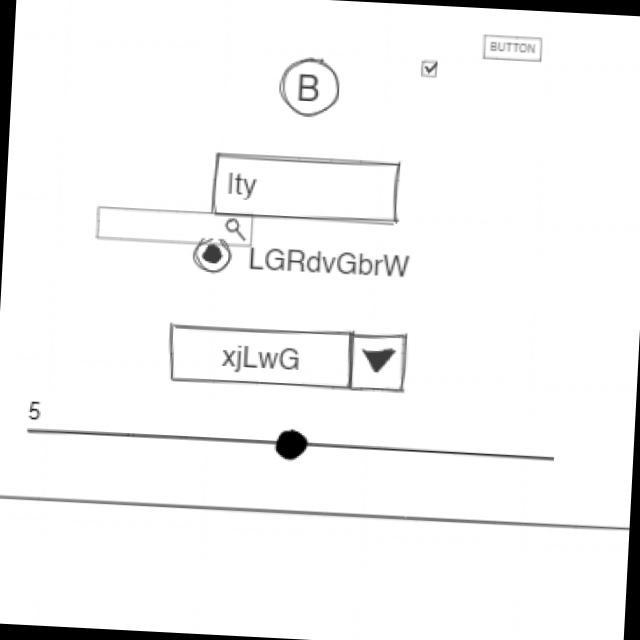button: (482, 31, 549, 66)
checkbox: (418, 58, 441, 81)
container: (1, 488, 631, 640)
icon-button: (274, 55, 345, 122)
input: (210, 149, 407, 230)
radio: (192, 235, 414, 286)
search: (94, 203, 258, 253)
select: (166, 320, 414, 400)
slider: (50, 415, 560, 480)
